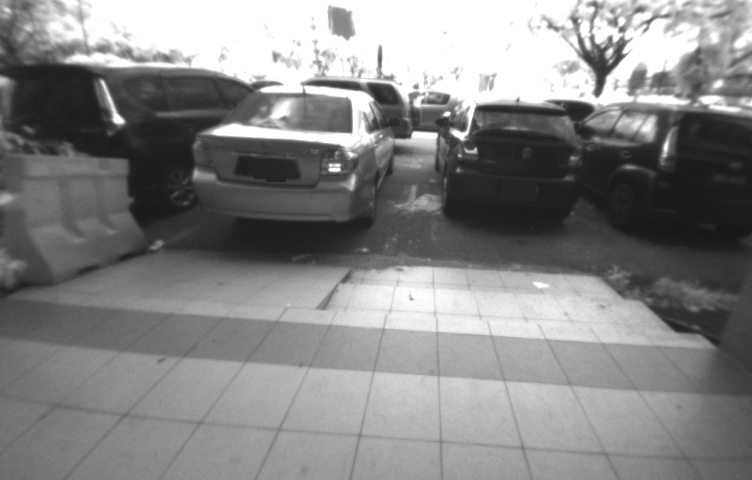down_steps: (319, 257, 718, 358)
mixed_gradient: (267, 255, 377, 337)
